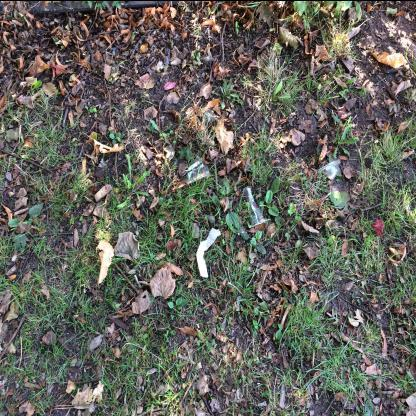plastik: (244, 186, 272, 228), (181, 156, 211, 186)
